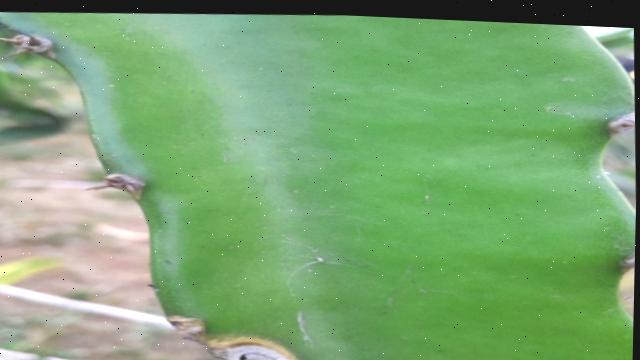stemcanker: (291, 313, 313, 345), (307, 250, 333, 269), (288, 288, 309, 310)
